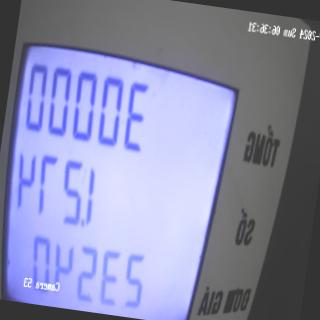screen: (0, 24, 248, 320)
